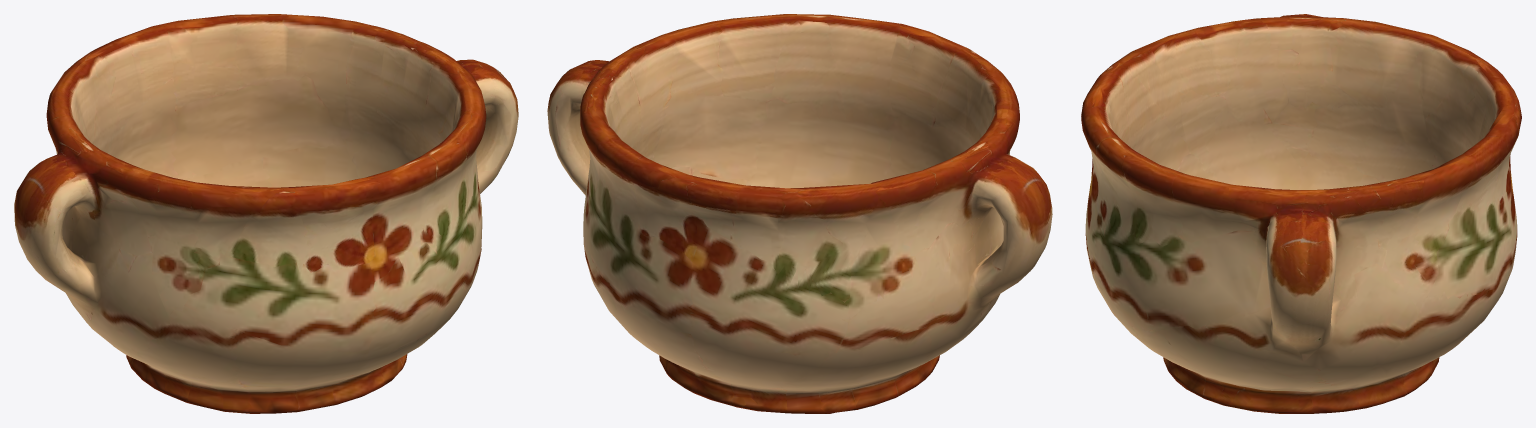
File: d_bowl_empty.glb
3 views of the same model, side by side, from view 1: azimuth 30°, elevation 25°; view 2: azimuth 150°, elevation 25°; view 3: azimuth 270°, elevation 25° (orthographic).
Bounding box in the file's own units: 1.9 × 0.95 × 1.49.
Materials: 1 (1 with a texture image).
